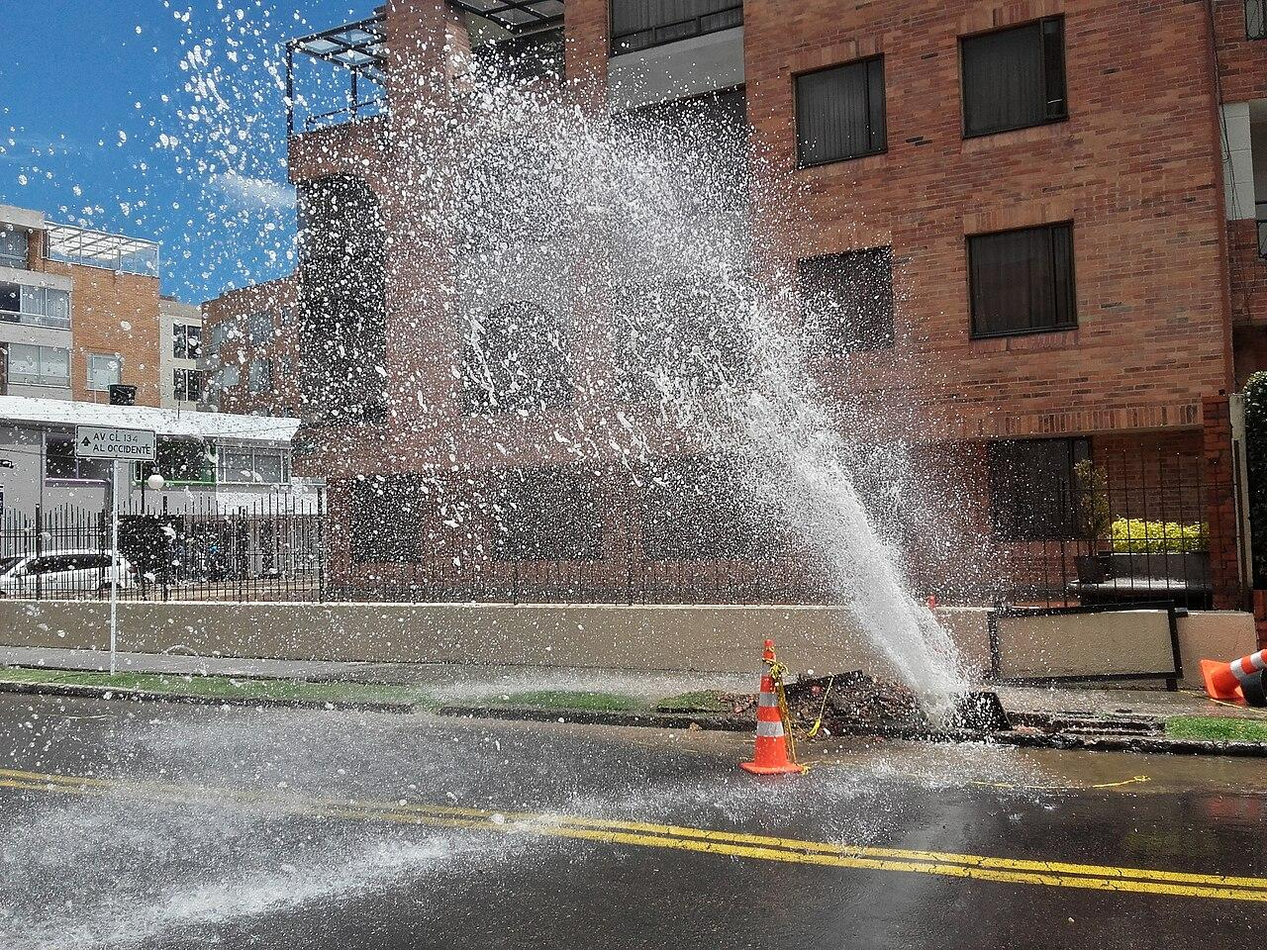pipe burst: (140, 45, 968, 734)
water accumulation: (2, 691, 1267, 950)
